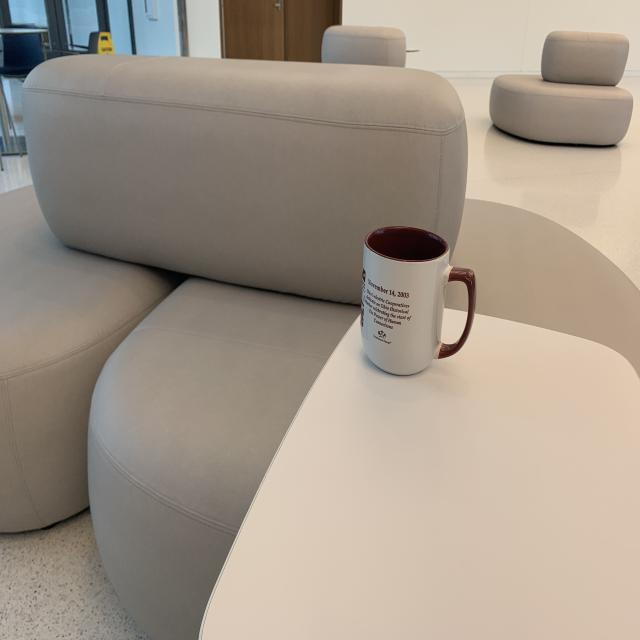Cup: (357, 216, 482, 392)
